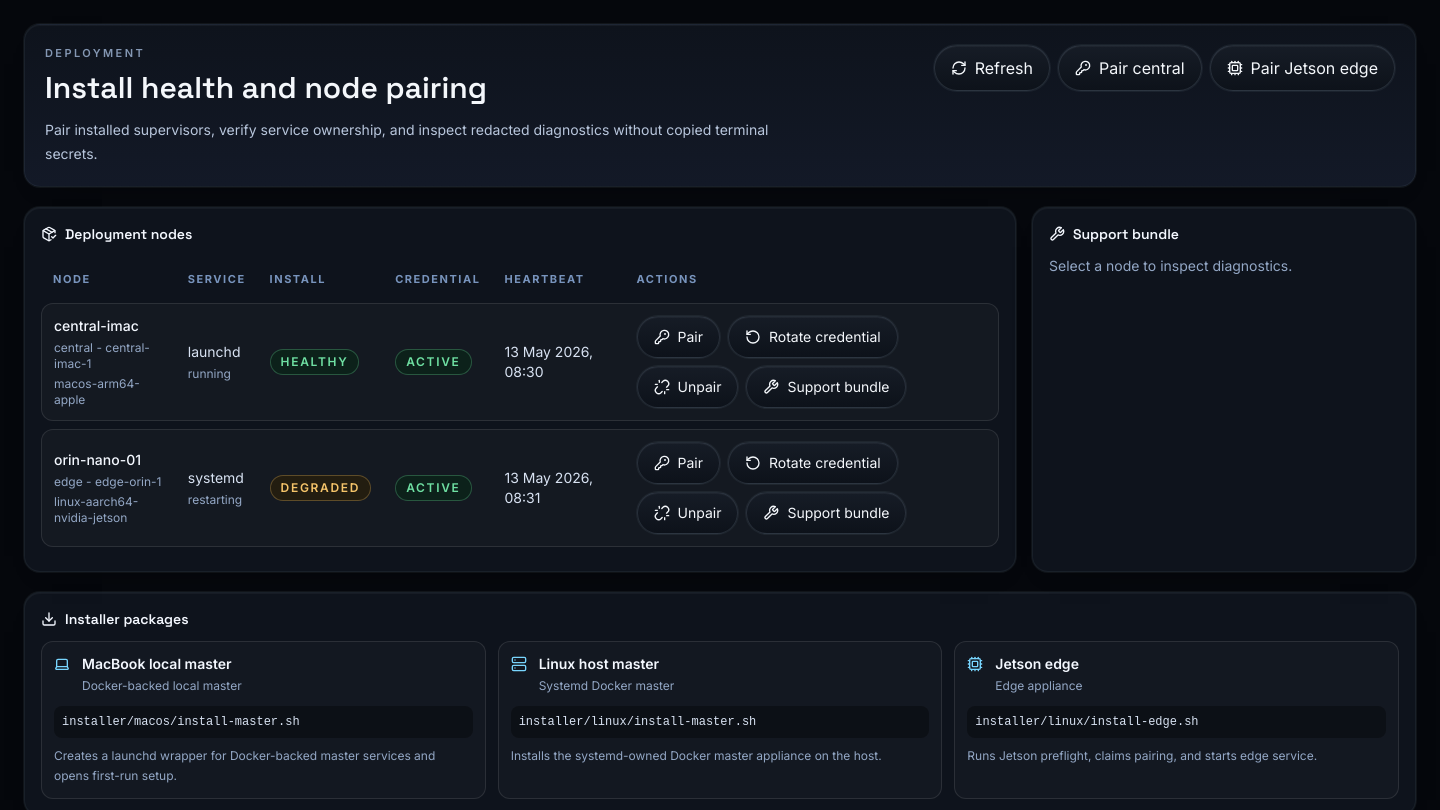
Scenario: DeploymentPage › unpairs a node by revoking its credential
Click the button "Unpair" in the row of "linux-aarch64-nvidia-jetson".
click(687, 513)  # box [636,492,738,534]
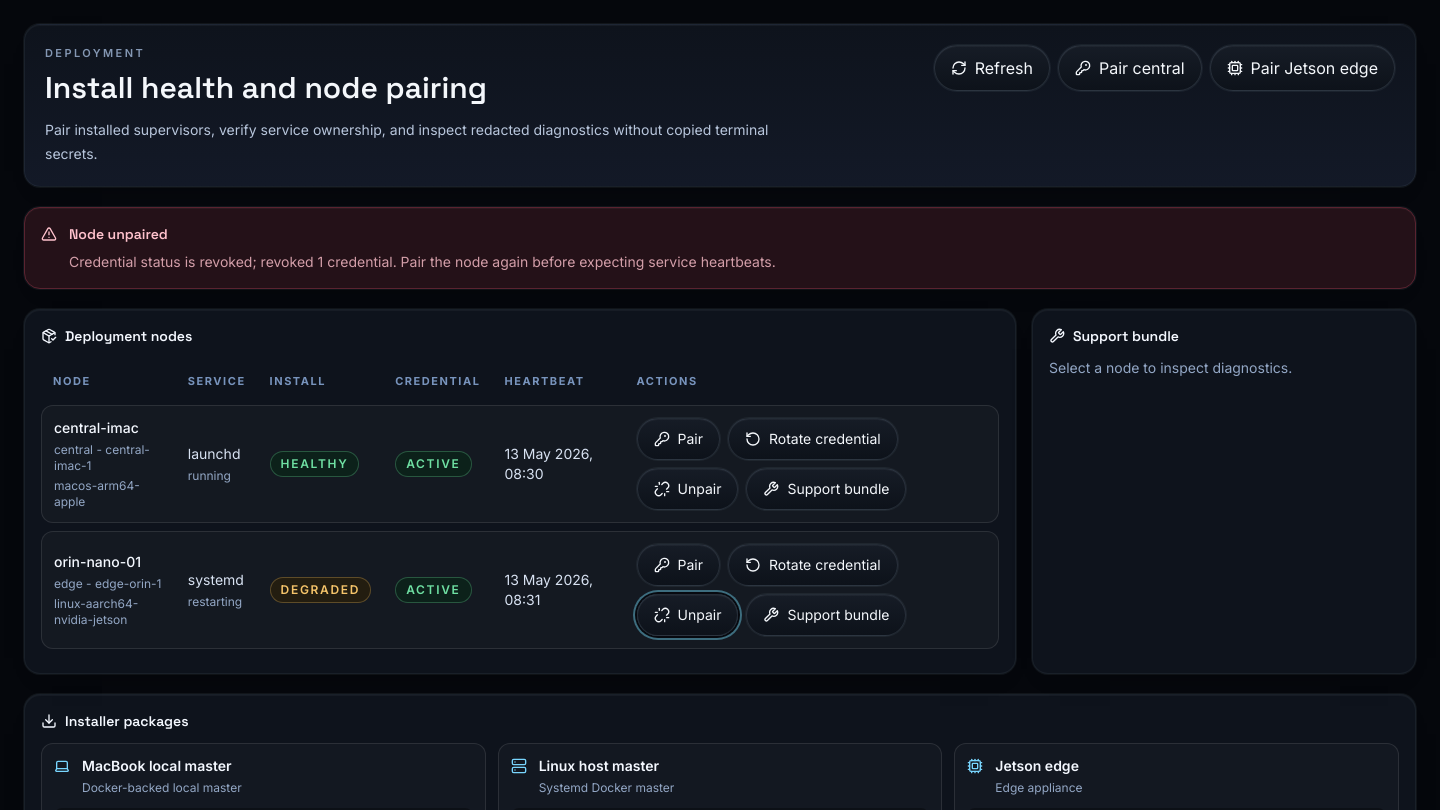
Check: the heading "Node unpaired" is shown, box [69,224,168,242]
Check: the text "revoked 1 credential" is shown, box [69,252,776,272]
